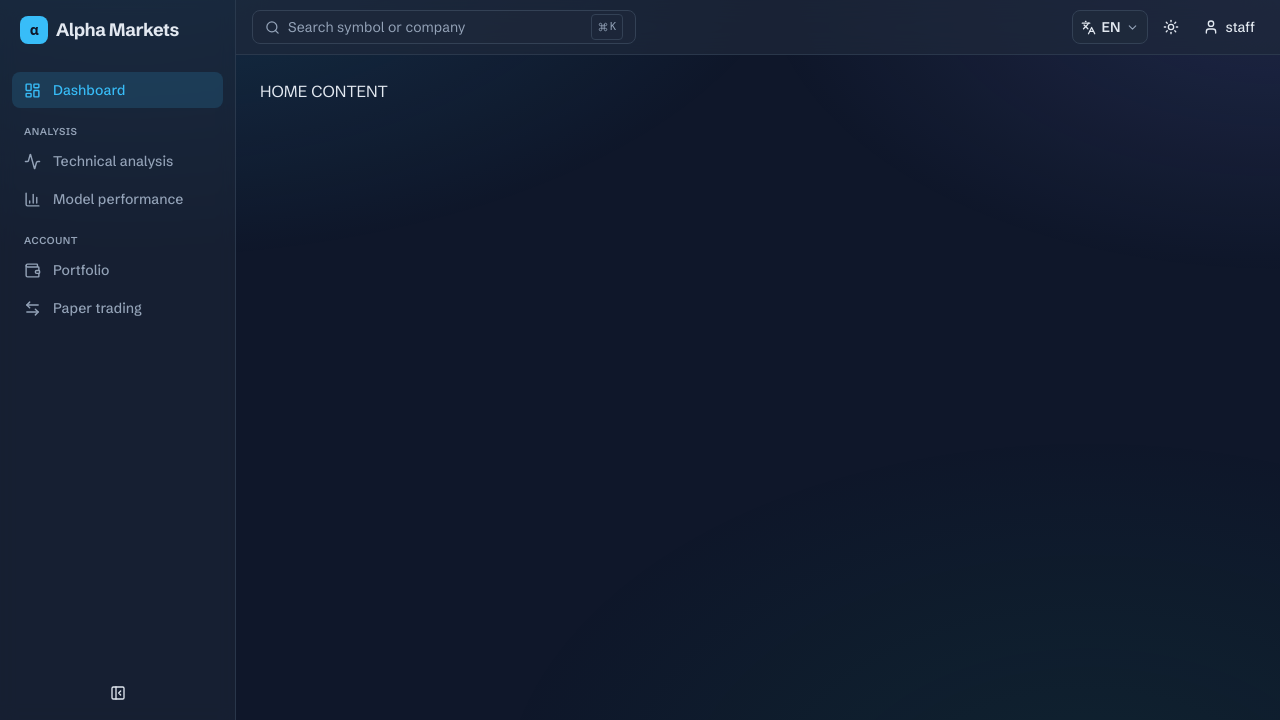
Test case: MainLayout: role-based display › "Change password" opens the dialog
Click the button with aria-label "Account menu" at (1229, 27), box [1194, 10, 1264, 44]
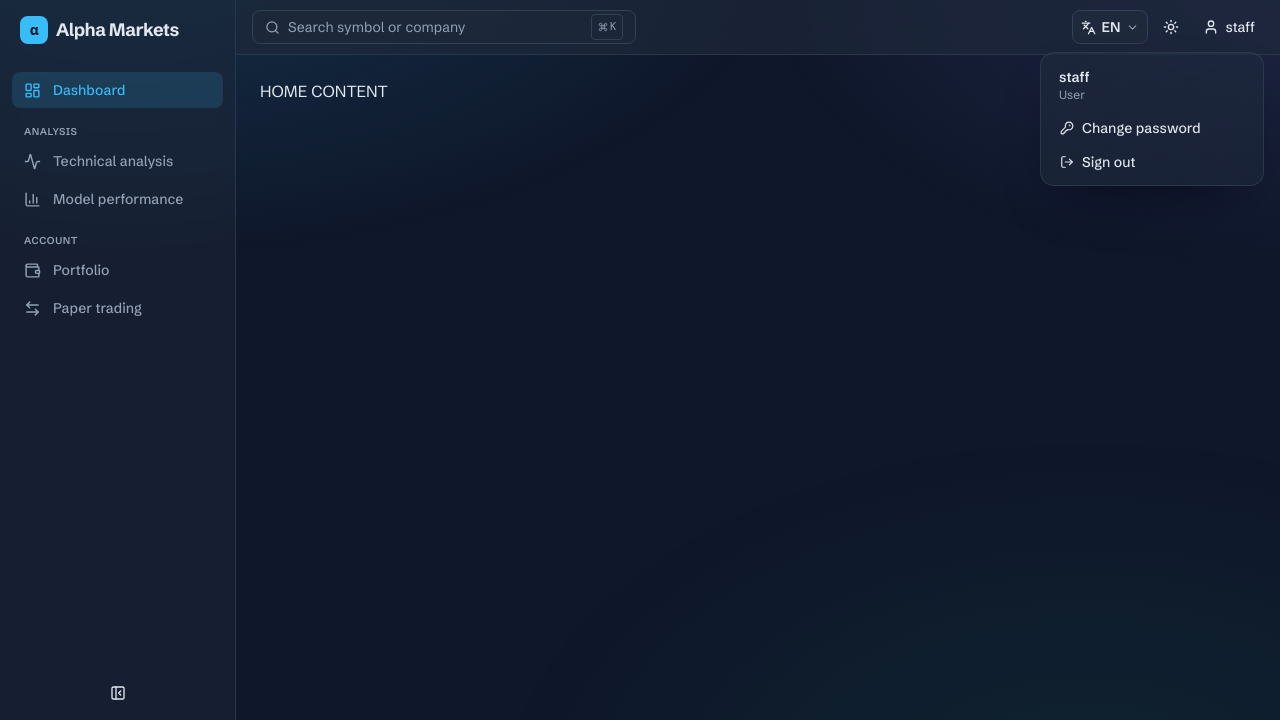
Click the menu item "Change password" at (1152, 128), box [1047, 111, 1257, 145]
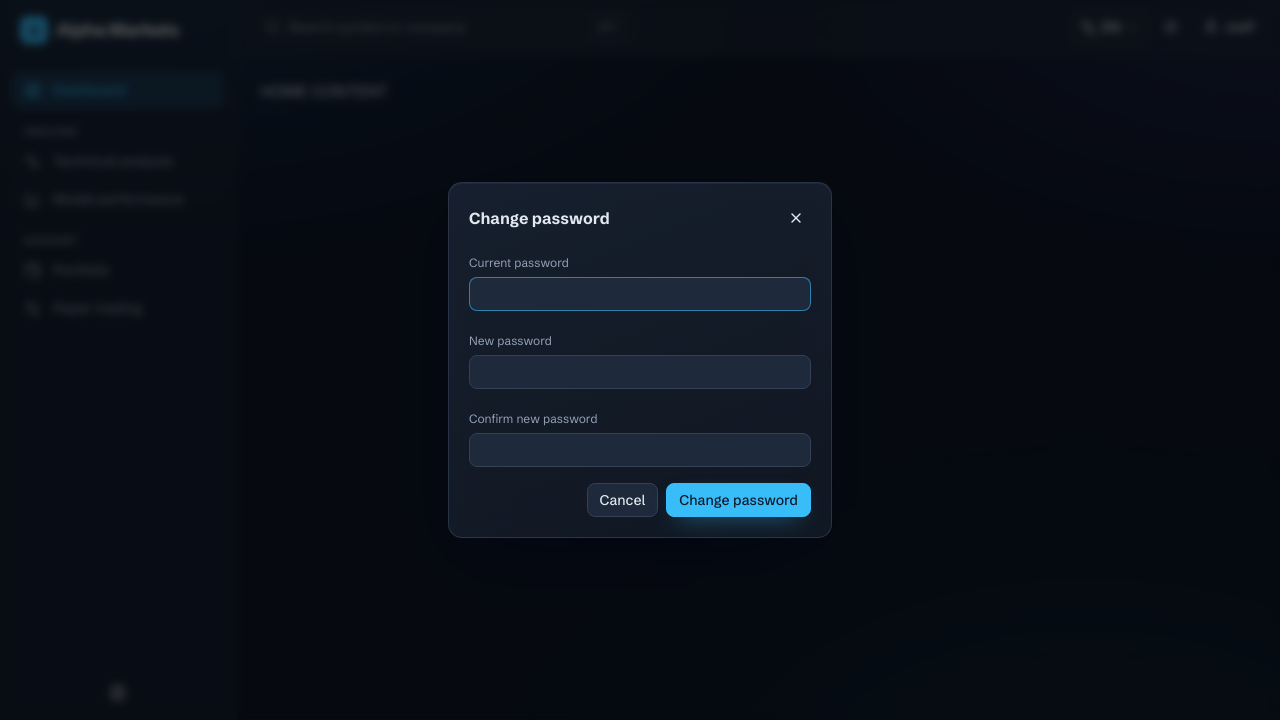
Result: the dialog shows "Current password" at [469, 255, 569, 270]
